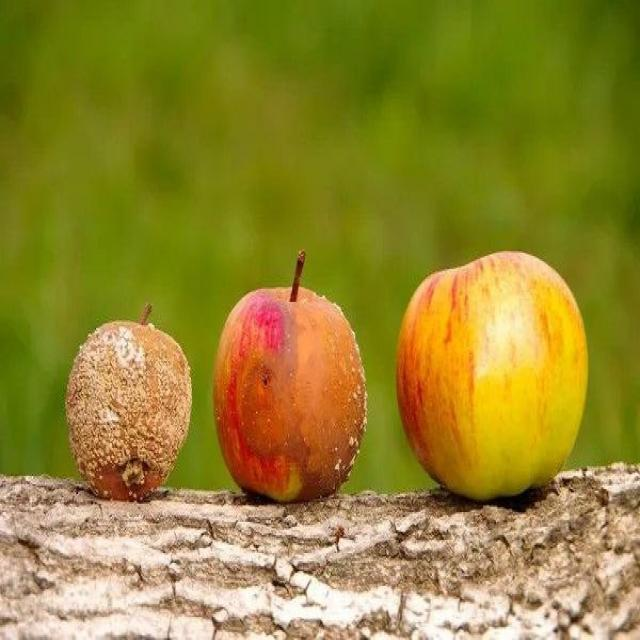Fresh Apple: (382, 228, 602, 494)
Rotten: (212, 282, 385, 513), (43, 318, 205, 498)
